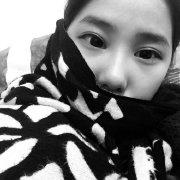WRONG: (57, 12, 167, 122)
